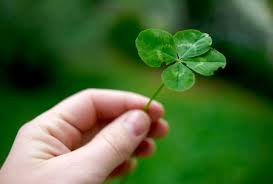4-clover: (135, 26, 226, 92)
